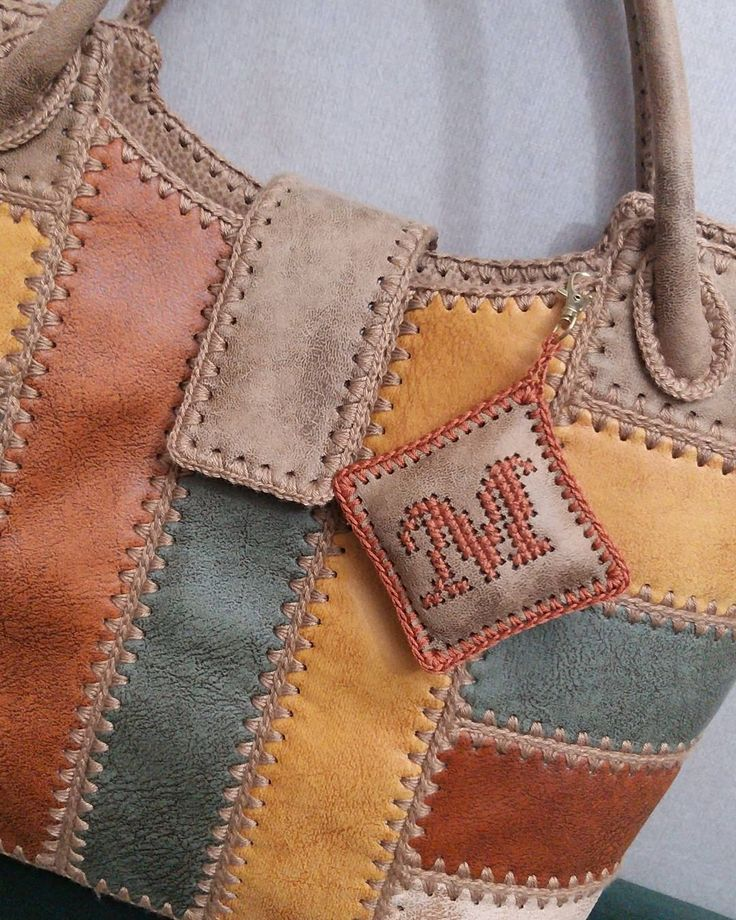cuero: (1, 1, 736, 920)
